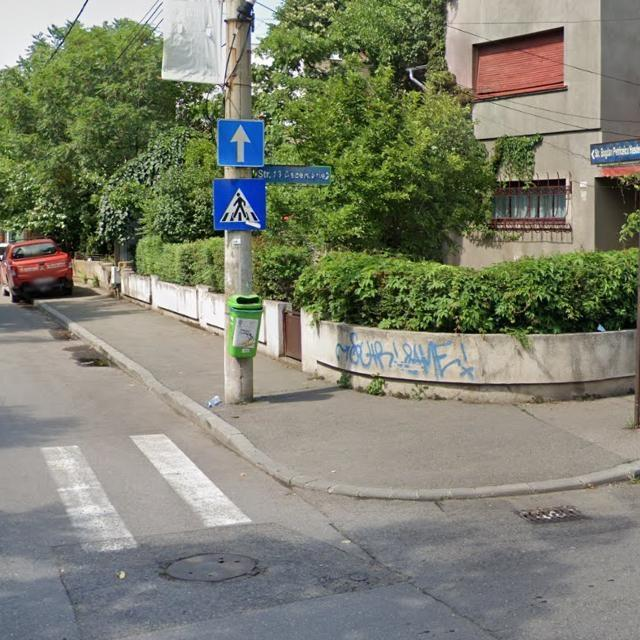info_crosswalk: (214, 177, 267, 231)
